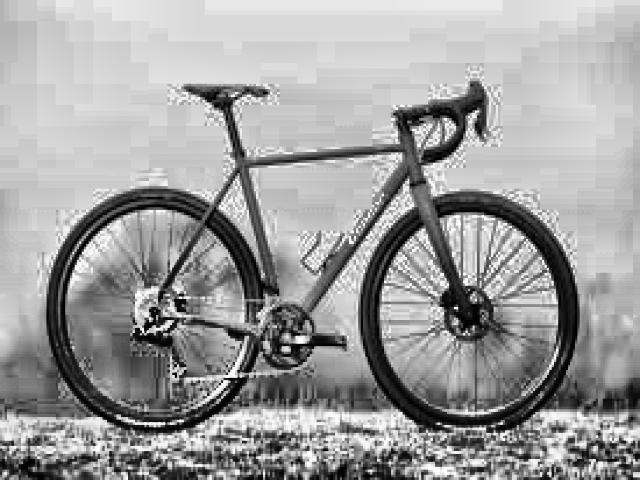cassette: (134, 286, 181, 334)
cranks_set: (257, 299, 345, 375)
rear_derailleur: (133, 326, 189, 382)
saddle: (179, 77, 273, 110)
sti_shifter: (465, 77, 494, 143)
wheel: (43, 184, 265, 435), (361, 191, 583, 435)
